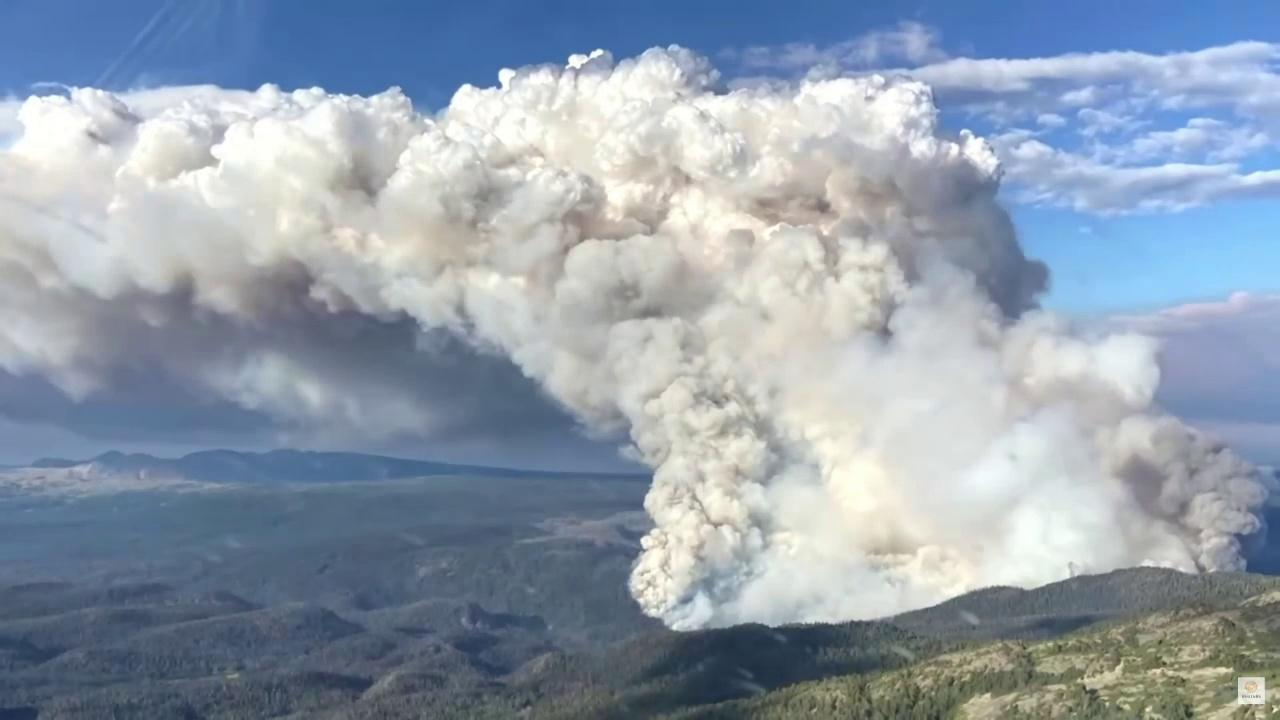smoke: (0, 40, 1274, 634)
